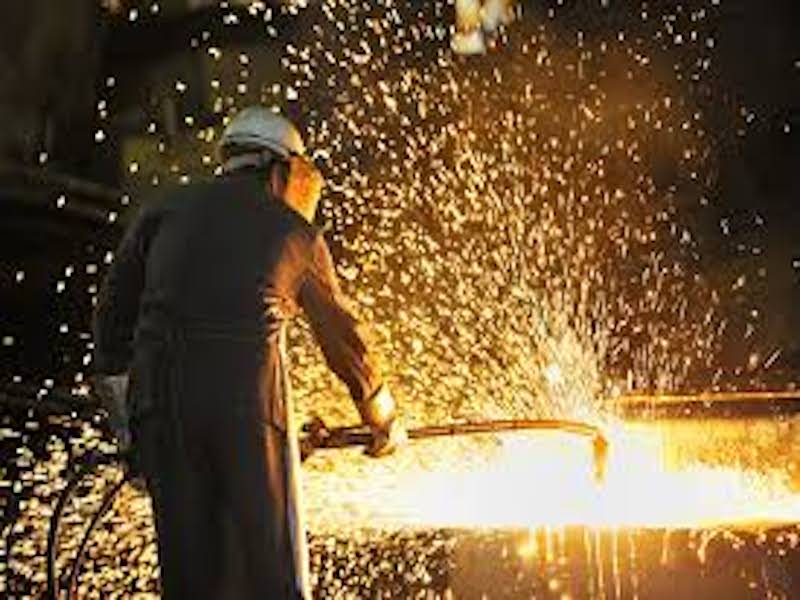Heating_source: (394, 386, 782, 527)
